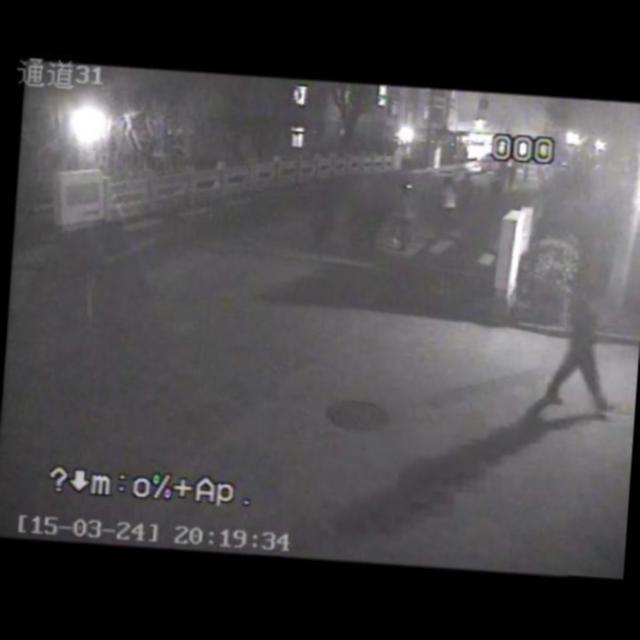person: (538, 274, 630, 418), (302, 170, 343, 260), (358, 184, 390, 259), (429, 176, 463, 236), (392, 181, 420, 247)
